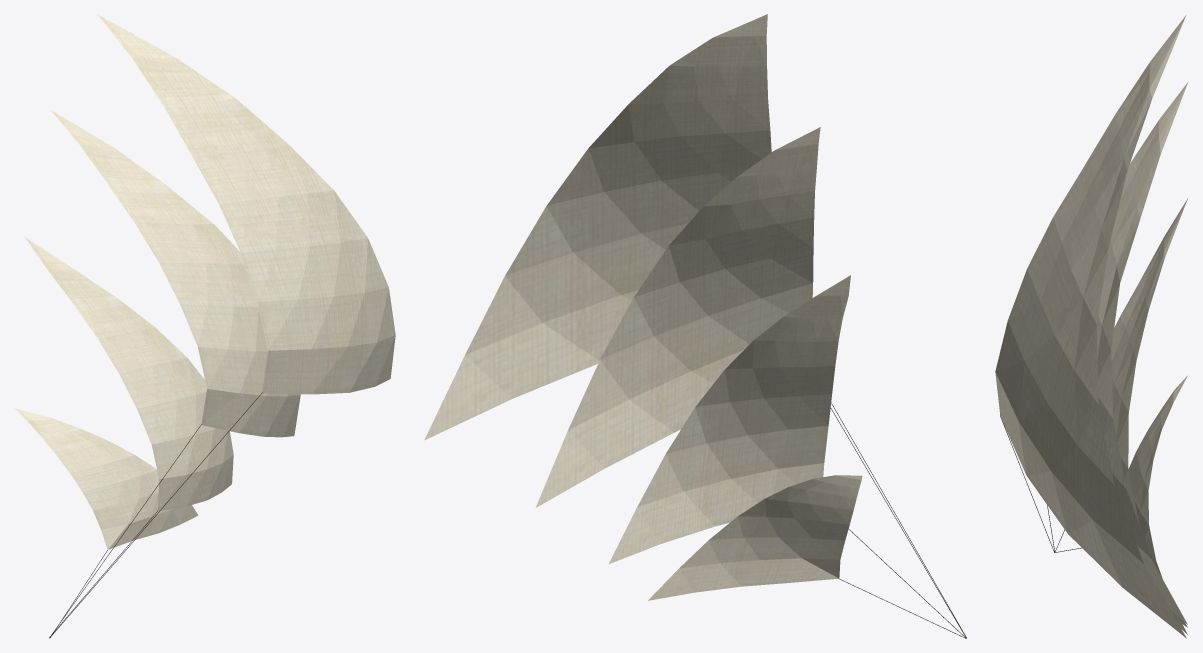
Rendered from LineWarship80-cannonsKliver_LOD0.FBX.
3 renders of one model, left to right at view 1: azimuth 30°, elevation 25°; view 2: azimuth 150°, elevation 25°; view 3: azimuth 270°, elevation 25°, orthographic. The views are drawn at different scales.
Visible parts, largest first — view 1: LineWarship80CannonsKliverLD0_001, LineWarship80CannonsKliverRopesLD0_002; view 2: LineWarship80CannonsKliverLD0_001, LineWarship80CannonsKliverRopesLD0_002; view 3: LineWarship80CannonsKliverLD0_001.
Boxes of the visible parts, x1,y1,x2,y2 form: LineWarship80CannonsKliverLD0_001: (15, 14, 395, 549); LineWarship80CannonsKliverRopesLD0_002: (49, 392, 262, 638); LineWarship80CannonsKliverLD0_001: (424, 14, 862, 600); LineWarship80CannonsKliverRopesLD0_002: (830, 403, 966, 638); LineWarship80CannonsKliverLD0_001: (995, 14, 1188, 638).
Size of the model in its own units: 982 by 1289 by 379.
